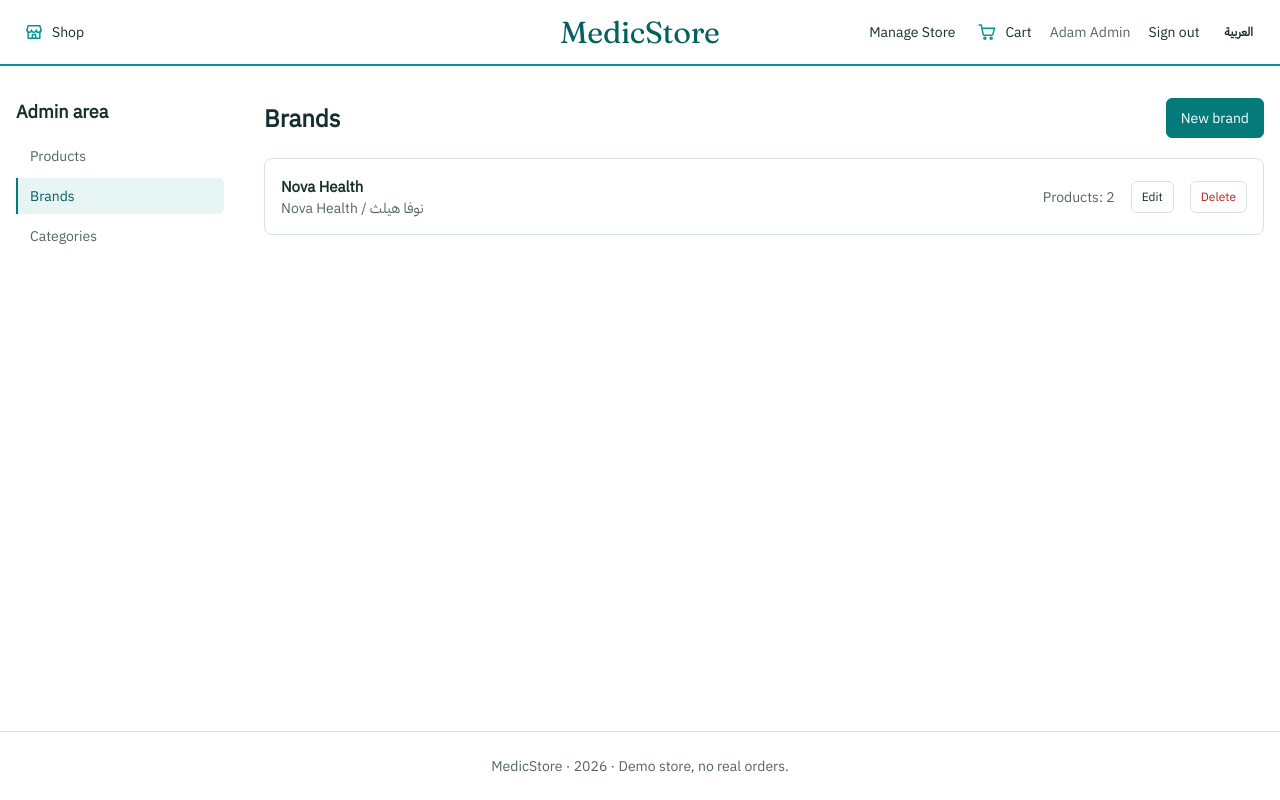
editing fills the form and saves with PUT
This screenshot has width=1280, height=800.
Step 1. Click the button "Edit" → click(1152, 197), box [1131,181,1174,213]
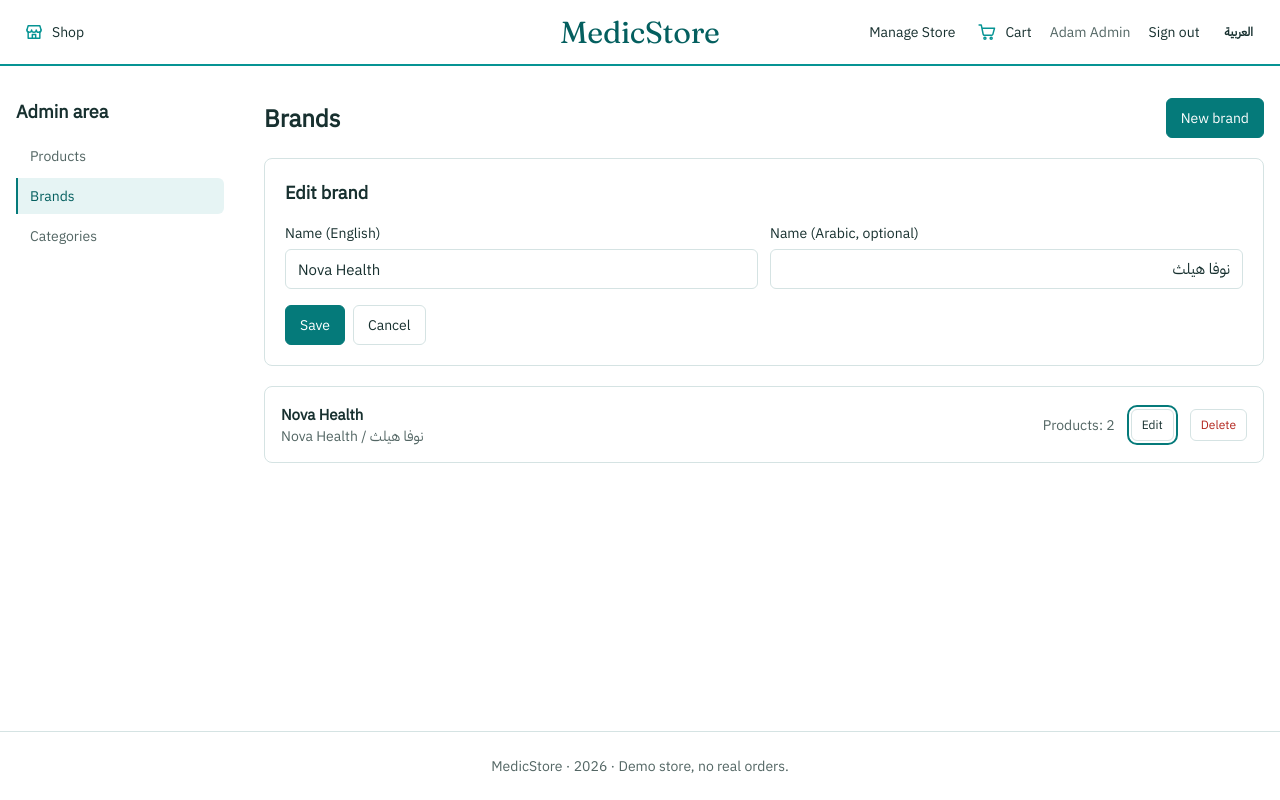
Now the field labelled "Name (English)" holds "Nova Health", box [285,249,758,289]
Now the field labelled "Name (Arabic, optional)" holds "نوفا هيلث"
Step 2. Clear the field labelled "Name (Arabic, optional)" → (1006, 269), box [770,249,1243,289]
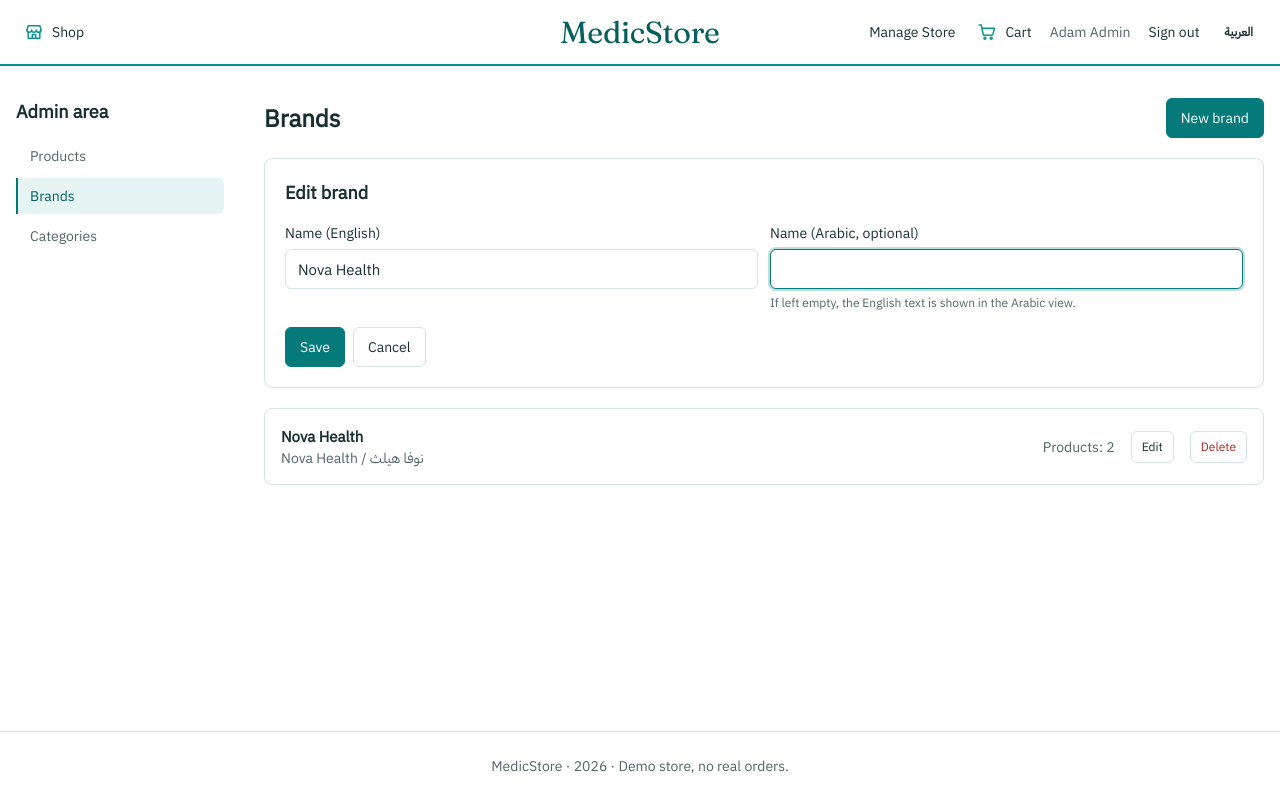
Step 3. Click the button "Save" → click(315, 347), box [285,327,345,367]
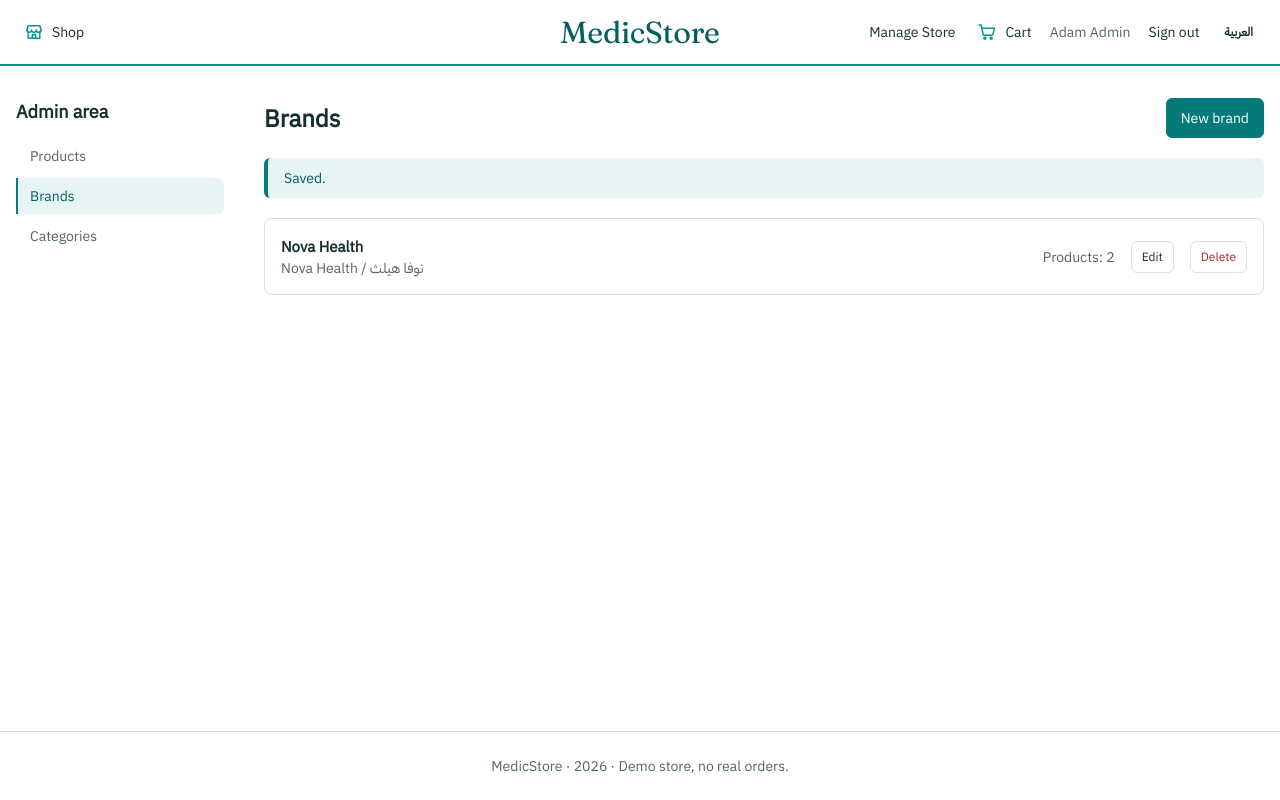
Now the text "Saved." is shown, box [264,158,1264,198]
